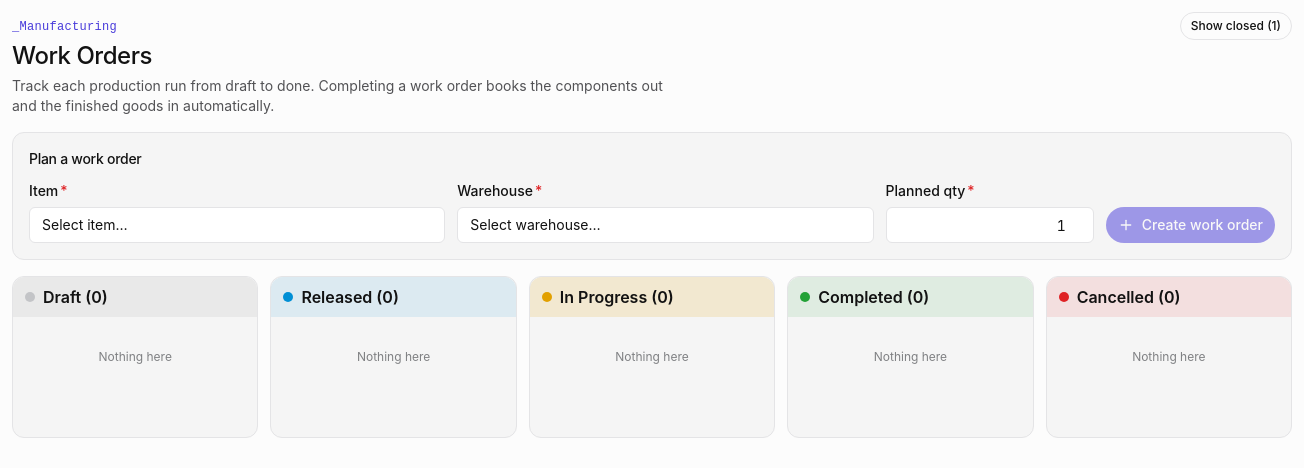
Test: WorkOrdersPage › toggles the closed lane on demand
Click the button "Show closed (1)". click: (1236, 26)
box: [1180,12,1292,40]
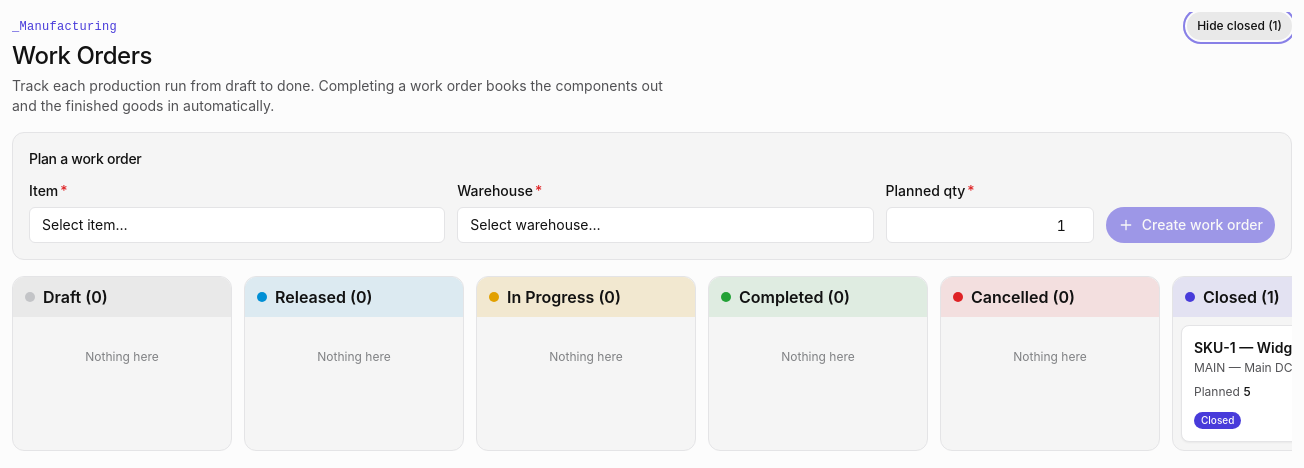
Expected: the text "Closed (1)" is shown, [1203,285,1280,309]
